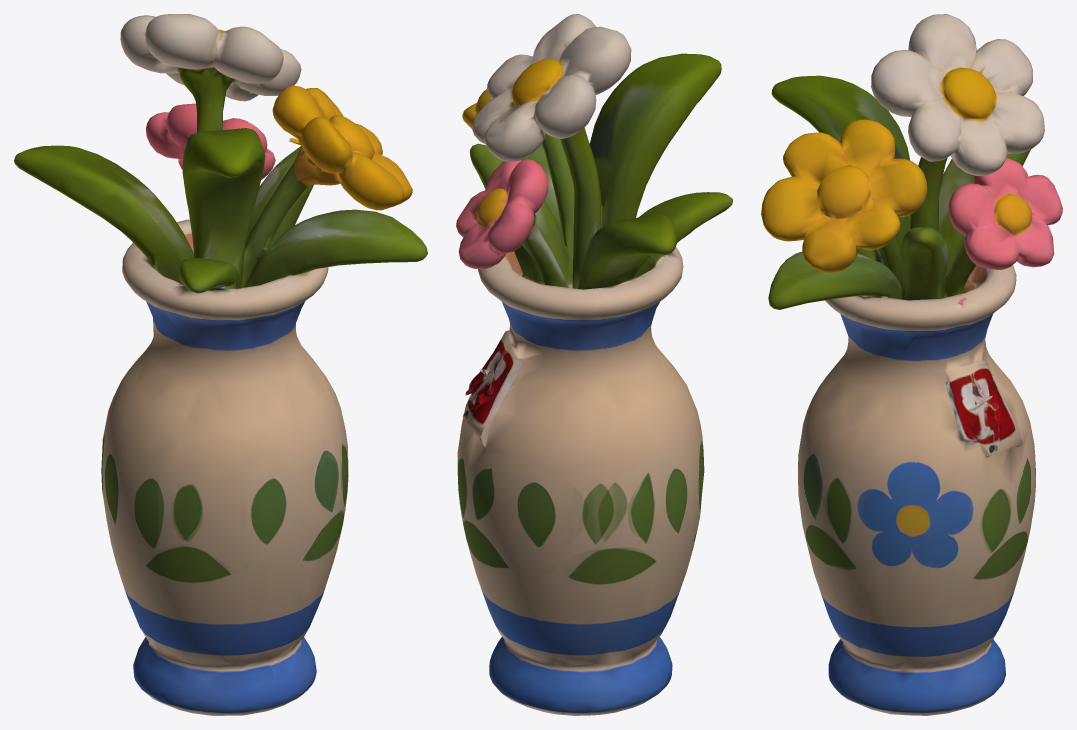
File: vase.glb
The picture shows the model from 3 angles, left to right: view 1: azimuth 30°, elevation 25°; view 2: azimuth 150°, elevation 25°; view 3: azimuth 270°, elevation 25°; orthographic projection. The views are drawn at different scales.
Visible parts, largest first — view 1: tripo_node_7a4c6ea9-a44e-4c9f-ac23-9eee04fb876e; view 2: tripo_node_7a4c6ea9-a44e-4c9f-ac23-9eee04fb876e; view 3: tripo_node_7a4c6ea9-a44e-4c9f-ac23-9eee04fb876e.
Part boxes in pixels (x1,y1,x2,y2): tripo_node_7a4c6ea9-a44e-4c9f-ac23-9eee04fb876e: (14,14,427,715); tripo_node_7a4c6ea9-a44e-4c9f-ac23-9eee04fb876e: (456,14,732,715); tripo_node_7a4c6ea9-a44e-4c9f-ac23-9eee04fb876e: (761,14,1062,715).
Size of the model in its own units: 0.4493 by 0.9998 by 0.4196.
1 material, 1 textured.
